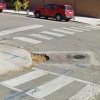crosswalk: (0, 69, 100, 100), (13, 25, 100, 44)
